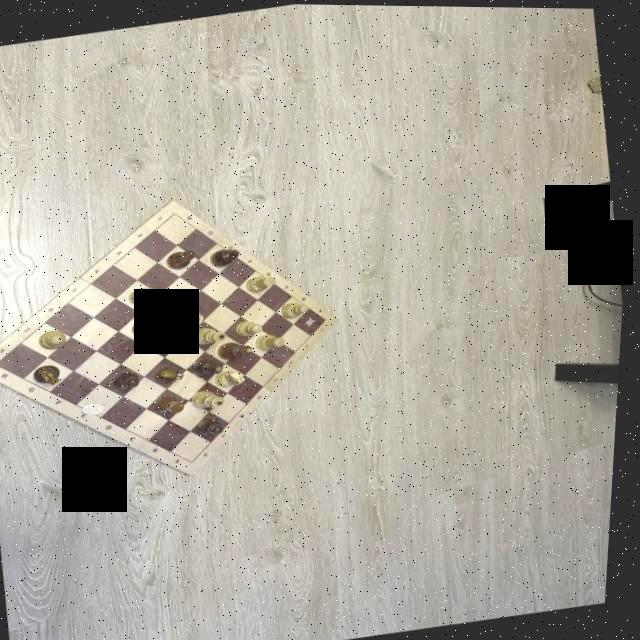chess-table-corners: (192, 458, 202, 464), (173, 210, 180, 216), (326, 316, 332, 322), (0, 362, 3, 368)
